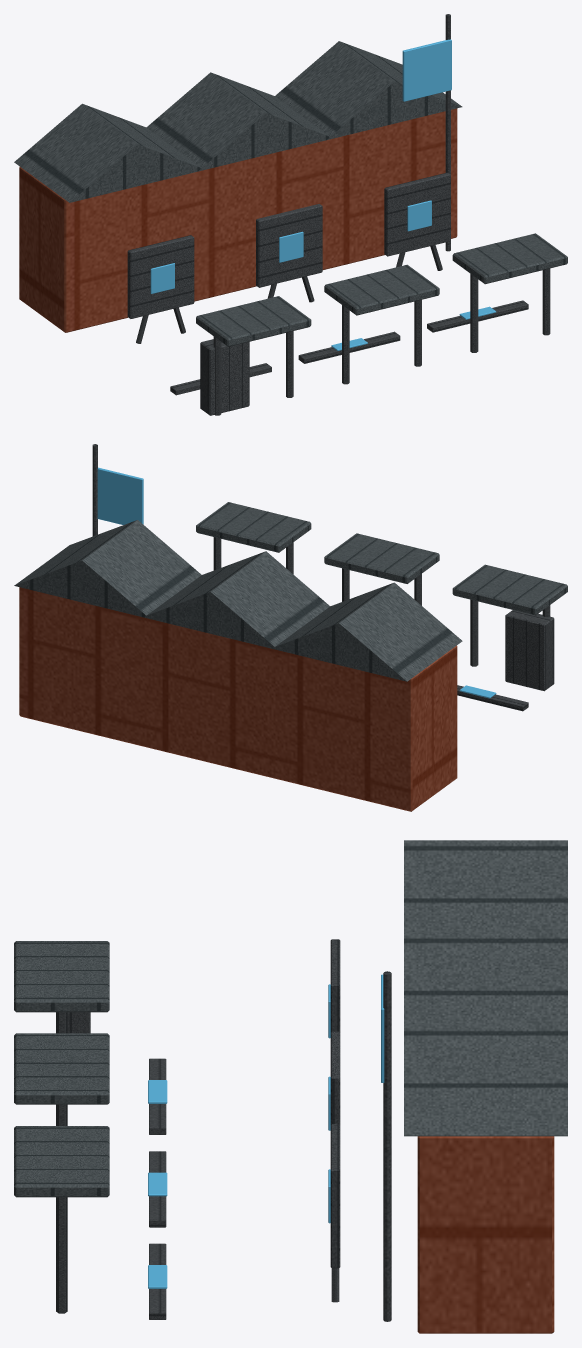
The model's file is edificio-b_000-e4-Bt5BJUhP.glb.
3 renders of one model, top to bottom at view 1: azimuth 30°, elevation 25°; view 2: azimuth 150°, elevation 25°; view 3: azimuth 270°, elevation 25°, orthographic. The views are drawn at different scales.
Visible parts, largest first — view 1: envolvente_arqueria, team_color; view 2: envolvente_arqueria, team_color; view 3: envolvente_arqueria, team_color.
Part boxes in pixels (box(x1,y1,x2,y2)): envolvente_arqueria: box(14, 14, 567, 415); team_color: box(150, 39, 496, 350); envolvente_arqueria: box(14, 444, 567, 811); team_color: box(97, 467, 496, 698); envolvente_arqueria: box(14, 840, 567, 1333); team_color: box(148, 974, 384, 1288).
Bounding box in the file's own units: 49 × 28.09 × 40.5.
Materials: 2 (1 with a texture image).
